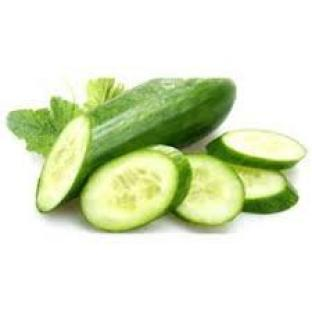Cucumber: (38, 80, 235, 212), (81, 147, 191, 231), (175, 156, 244, 226), (207, 129, 305, 169), (233, 167, 298, 213), (147, 145, 192, 207)
